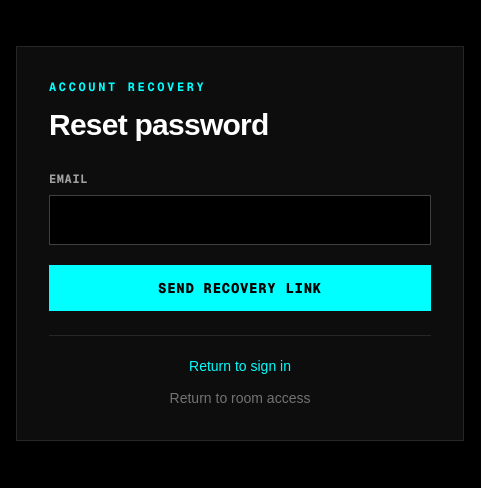
AccountAuthPage › shows generic recovery success without exposing account existence
The width and height of the screenshot is (481, 488).
Type "unknown@example.ca" into the field labelled "Email" at (240, 220), box [49,194,431,244]
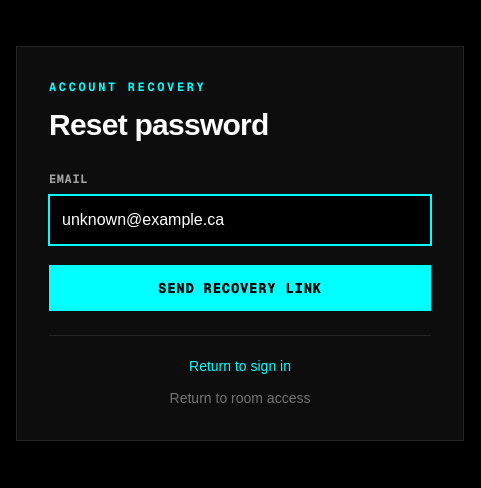
Click the button "Send recovery link" at (240, 288), box [49,264,431,310]
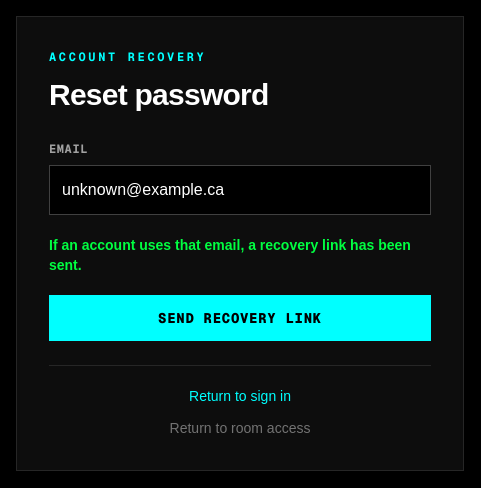
Expected: the message shows "If an account uses that email", [49,236,411,272]
